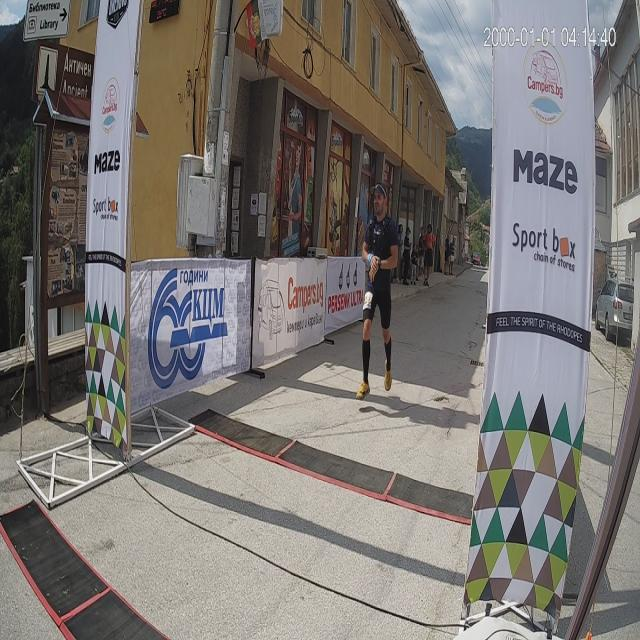runner: (342, 174, 408, 441)
